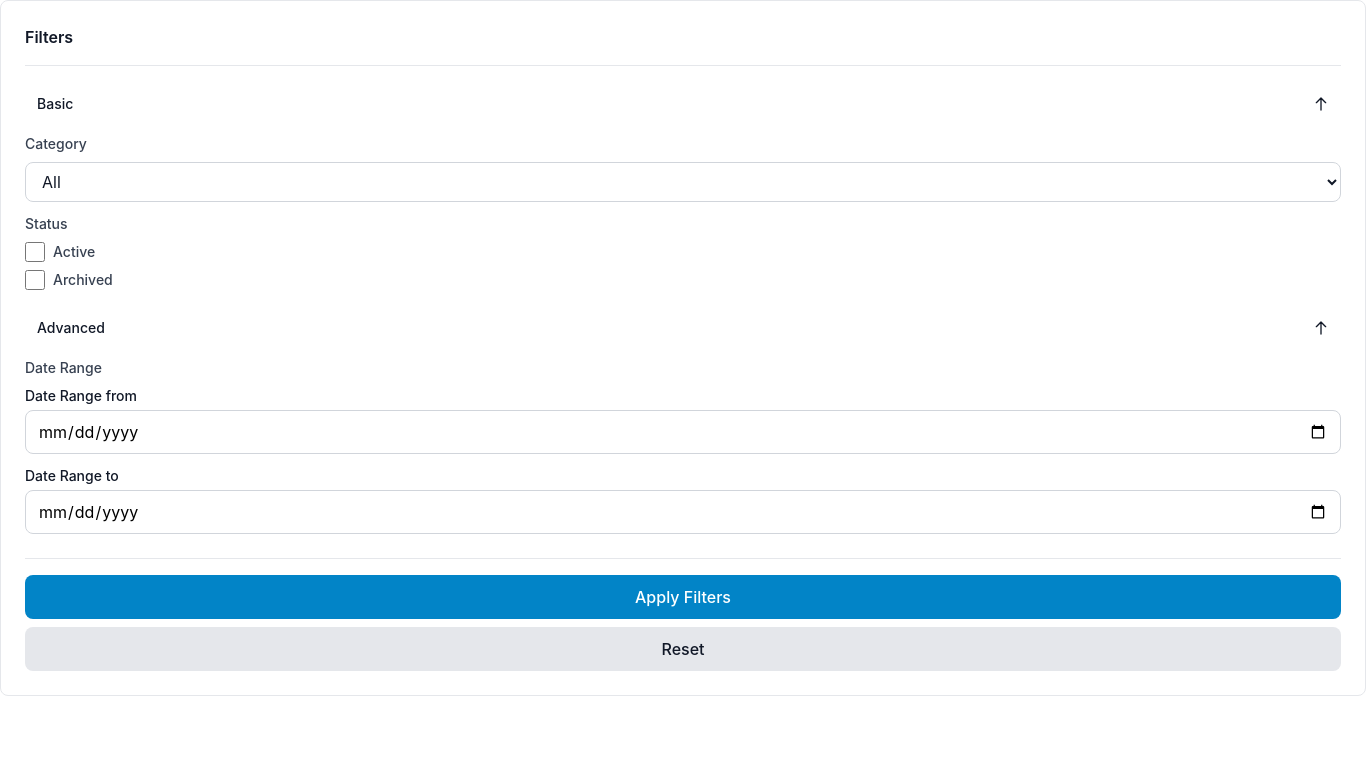
FilterPanel - Accessibility Tests › ARIA Attributes › should update aria-expanded when section toggled
Click the button "Advanced": [71, 328] box [25,306,1341,350]
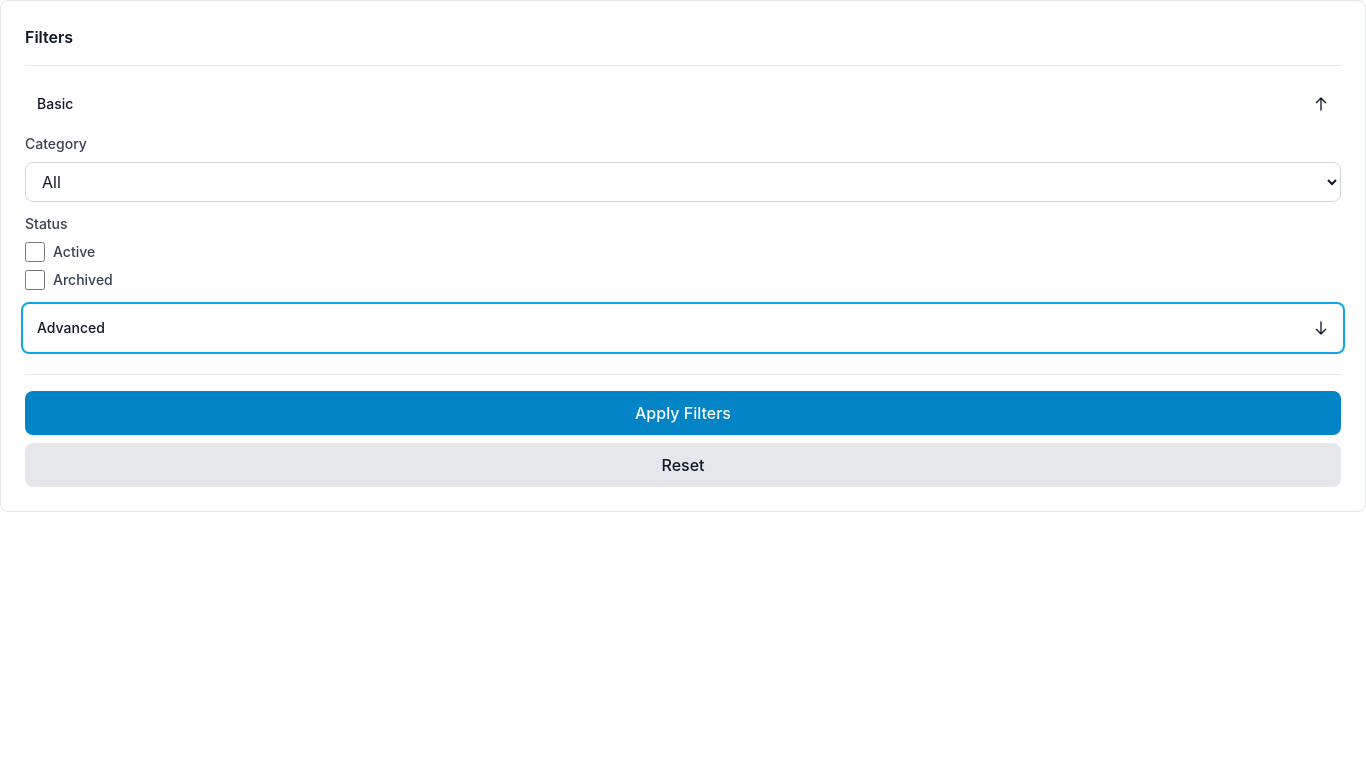
Now the button "Advanced" is collapsed, box [25,306,1341,350]
